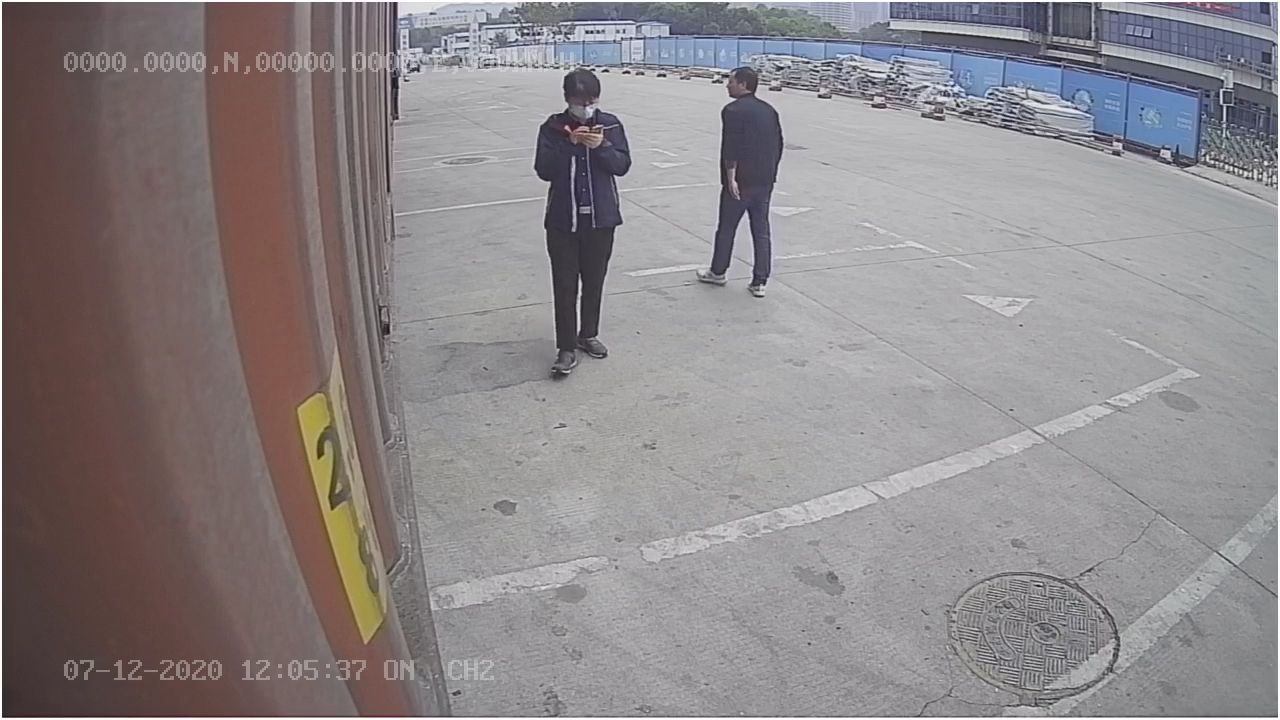person: (528, 67, 630, 374), (696, 62, 785, 301)
